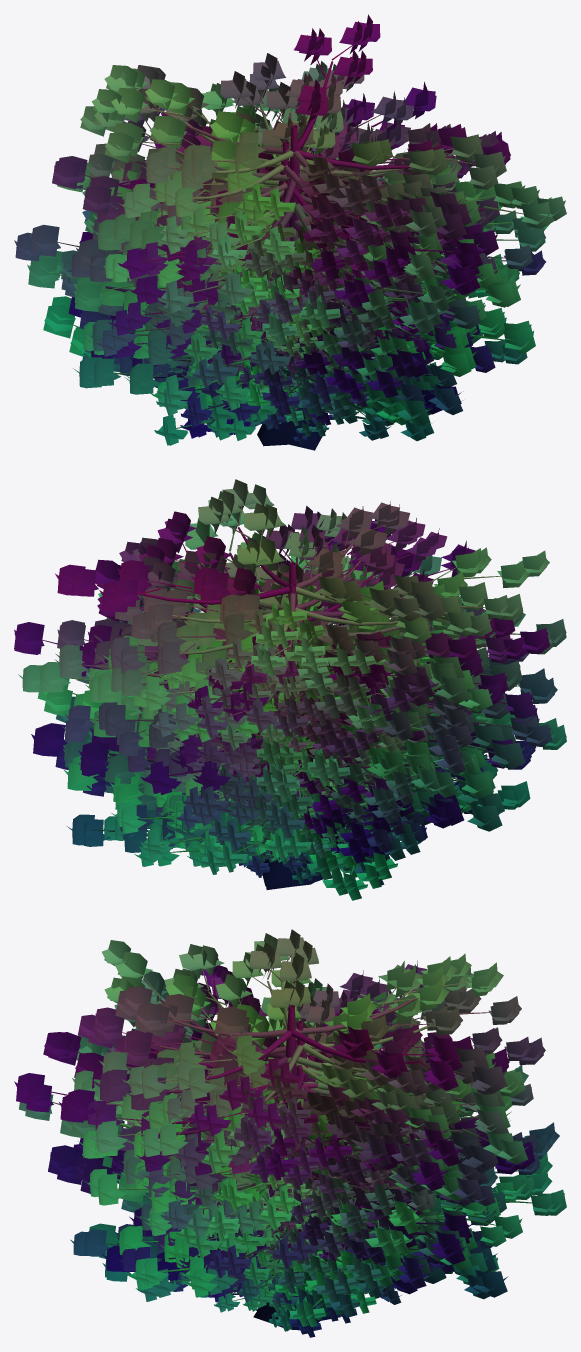
Rendered from trees_cedar.glb.
The picture shows the model from 3 angles, top to bottom: view 1: azimuth 30°, elevation 25°; view 2: azimuth 150°, elevation 25°; view 3: azimuth 270°, elevation 25°; orthographic projection.
Parts seen in each view (by area): view 1: cedar_ancient_04_LOD0, cedar_ancient_03_LOD0, cedar_ancient_02_LOD0, cedar_ancient_01_LOD0, cedar_mature_04_LOD0, cedar_mature_02_LOD0, cedar_mature_03_LOD0, cedar_mature_01_LOD0; view 2: cedar_ancient_04_LOD0, cedar_ancient_03_LOD0, cedar_ancient_02_LOD0, cedar_ancient_01_LOD0, cedar_mature_04_LOD0, cedar_mature_03_LOD0, cedar_mature_02_LOD0, cedar_mature_01_LOD0; view 3: cedar_ancient_04_LOD0, cedar_ancient_03_LOD0, cedar_ancient_02_LOD0, cedar_ancient_01_LOD0, cedar_mature_04_LOD0, cedar_mature_03_LOD0, cedar_mature_02_LOD0, cedar_mature_01_LOD0.
Boxes of the visible parts, bbox=[...] form: cedar_ancient_04_LOD0: bbox=[14, 14, 566, 450]; cedar_ancient_03_LOD0: bbox=[57, 61, 545, 445]; cedar_ancient_02_LOD0: bbox=[60, 110, 532, 427]; cedar_ancient_01_LOD0: bbox=[61, 124, 497, 441]; cedar_mature_04_LOD0: bbox=[122, 237, 456, 440]; cedar_mature_02_LOD0: bbox=[164, 272, 443, 437]; cedar_mature_03_LOD0: bbox=[130, 260, 427, 430]; cedar_mature_01_LOD0: bbox=[188, 320, 397, 444]; cedar_ancient_04_LOD0: bbox=[14, 479, 566, 900]; cedar_ancient_03_LOD0: bbox=[54, 508, 552, 889]; cedar_ancient_02_LOD0: bbox=[55, 528, 538, 860]; cedar_ancient_01_LOD0: bbox=[104, 553, 515, 885]; cedar_mature_04_LOD0: bbox=[145, 617, 471, 877]; cedar_mature_03_LOD0: bbox=[147, 702, 415, 862]; cedar_mature_02_LOD0: bbox=[141, 715, 435, 871]; cedar_mature_01_LOD0: bbox=[183, 746, 383, 884]; cedar_ancient_04_LOD0: bbox=[14, 929, 559, 1330]; cedar_ancient_03_LOD0: bbox=[72, 933, 566, 1326]; cedar_ancient_02_LOD0: bbox=[70, 969, 540, 1317]; cedar_ancient_01_LOD0: bbox=[94, 1013, 499, 1337]; cedar_mature_04_LOD0: bbox=[118, 1096, 465, 1331]; cedar_mature_03_LOD0: bbox=[133, 1119, 449, 1310]; cedar_mature_02_LOD0: bbox=[167, 1169, 435, 1312]; cedar_mature_01_LOD0: bbox=[200, 1180, 404, 1327].
Size of what is drawn, in the model's own units: 35.89 by 24.62 by 37.82.
